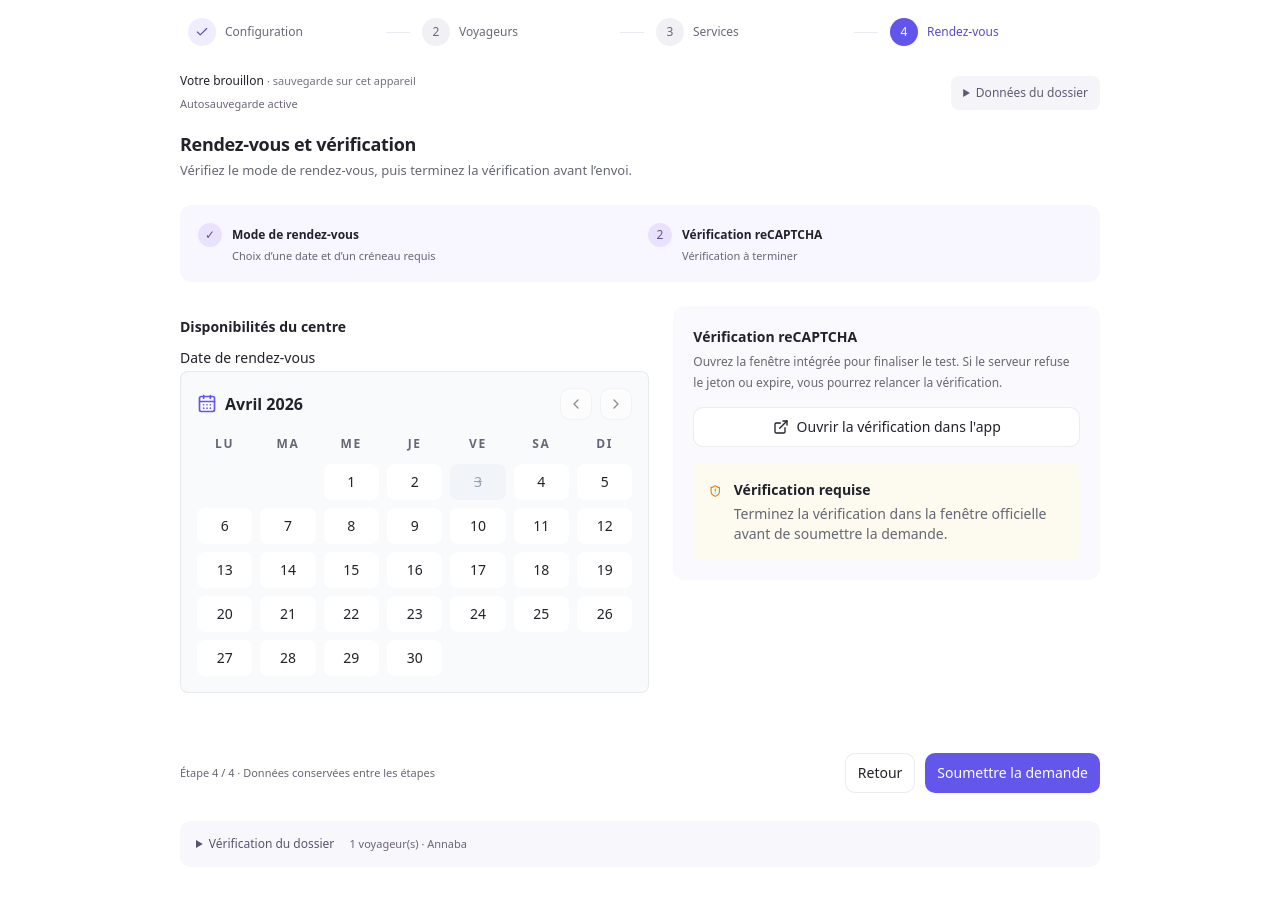
BookingShell flow › keeps the readable appointment slot label selected for submission
Expected: the text "Date de rendez-vous" is shown, [180, 351, 315, 365]
Click the button "6" at (225, 526), box [197, 508, 252, 544]
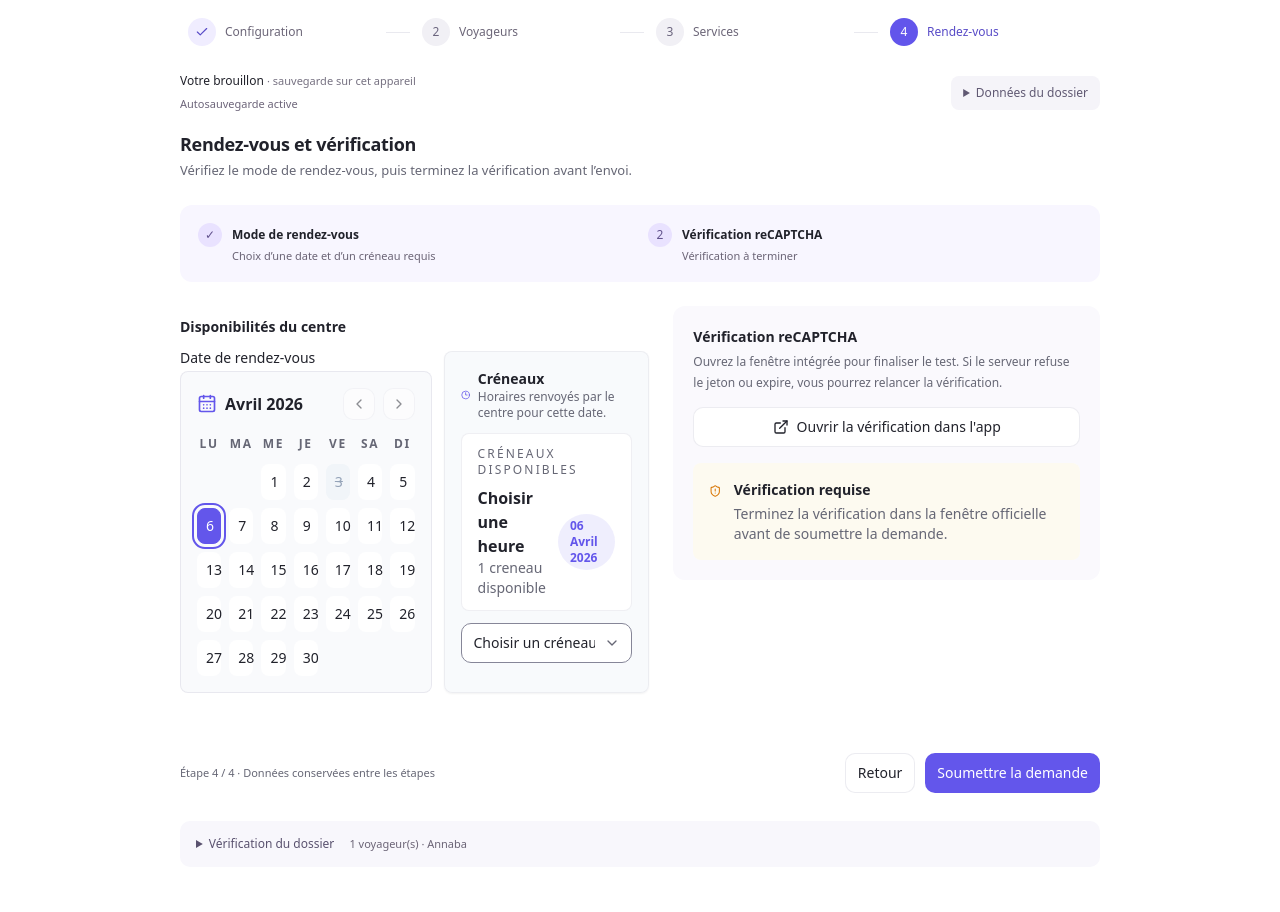
Select "8:00 AM" in the dropdown named "Heure de rendez-vous" at (546, 643), box [460, 623, 632, 663]
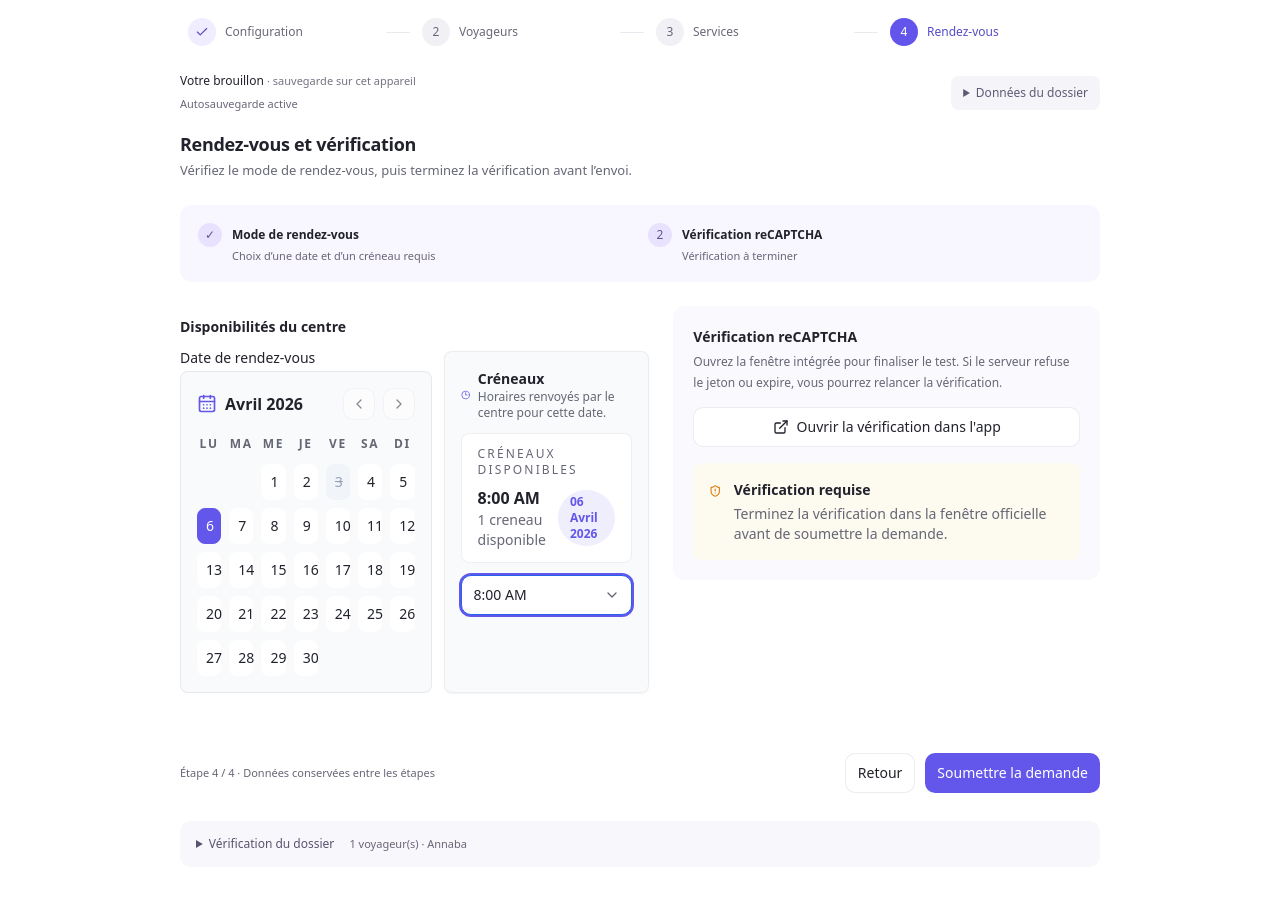
Expected: the text "8:00 AM" is shown, [478, 486, 546, 510]
